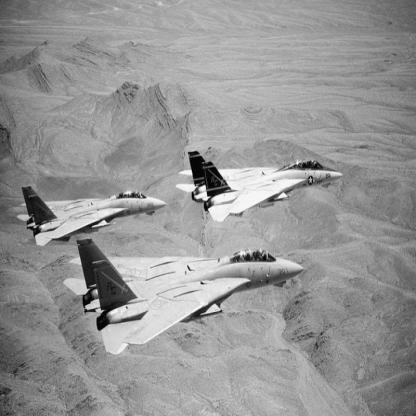F14: (64, 237, 309, 356), (176, 151, 345, 224), (17, 186, 172, 248)
